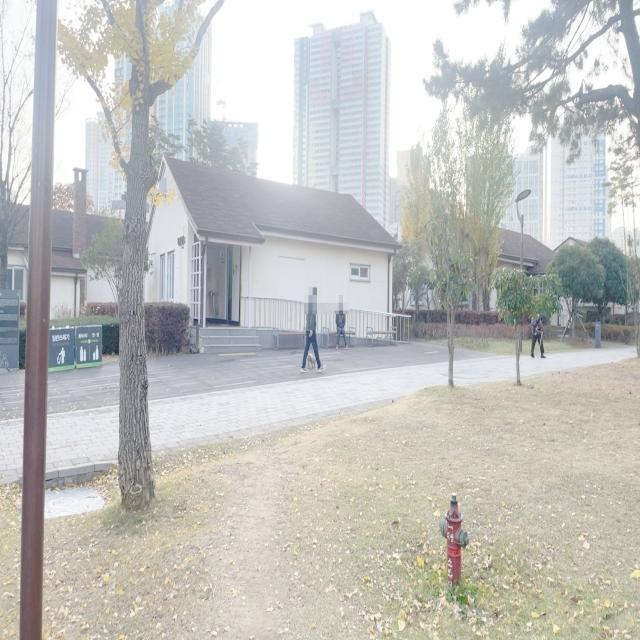Leashed_Dog: (306, 330, 317, 371)
